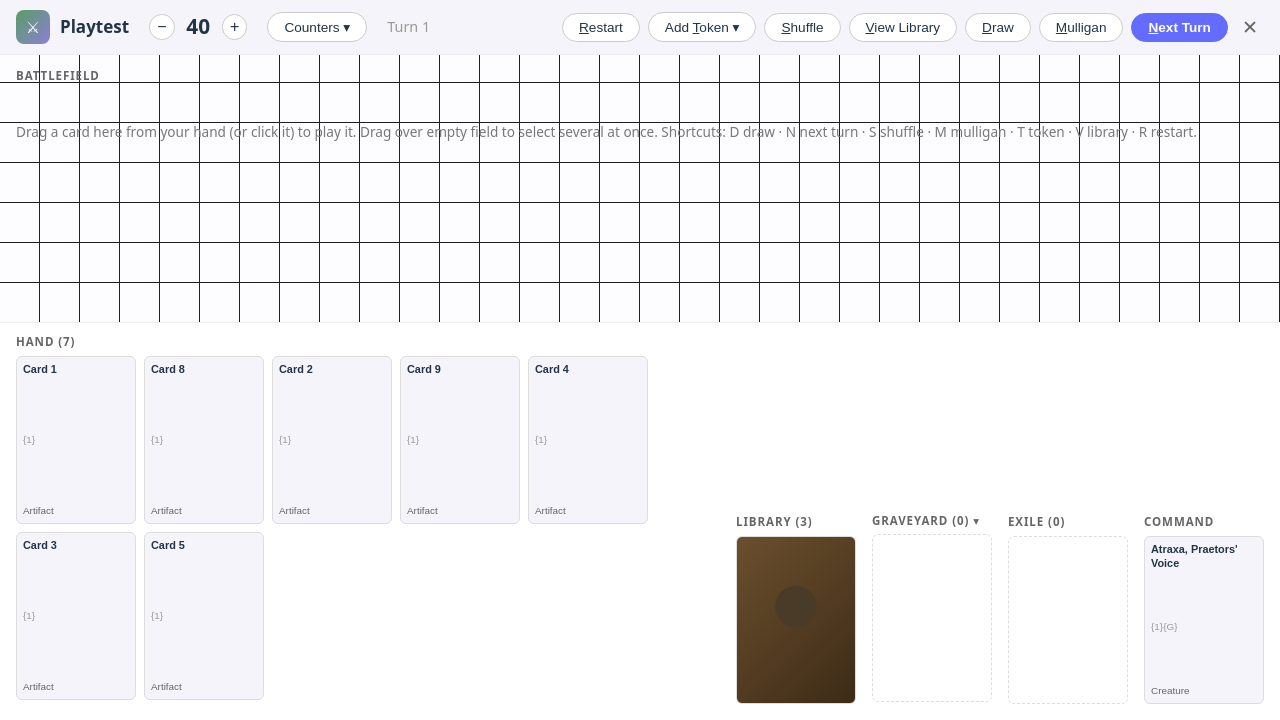
Test case: Playtest › tracks player counters from the Counters popover
Step 1. Click the button "Counters ▾" → (317, 27), box [267,12,367,42]
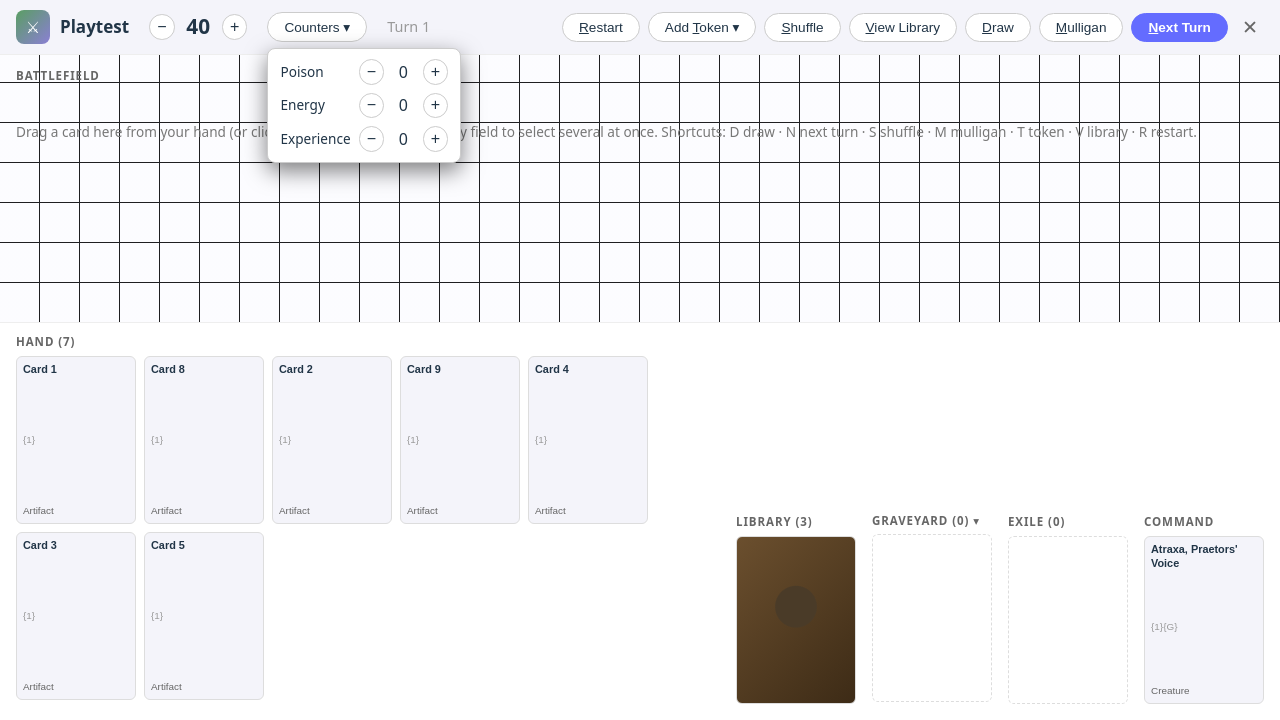
Step 2. Click the button named "Add Poison counter" → (435, 72), box [423,59,448,85]
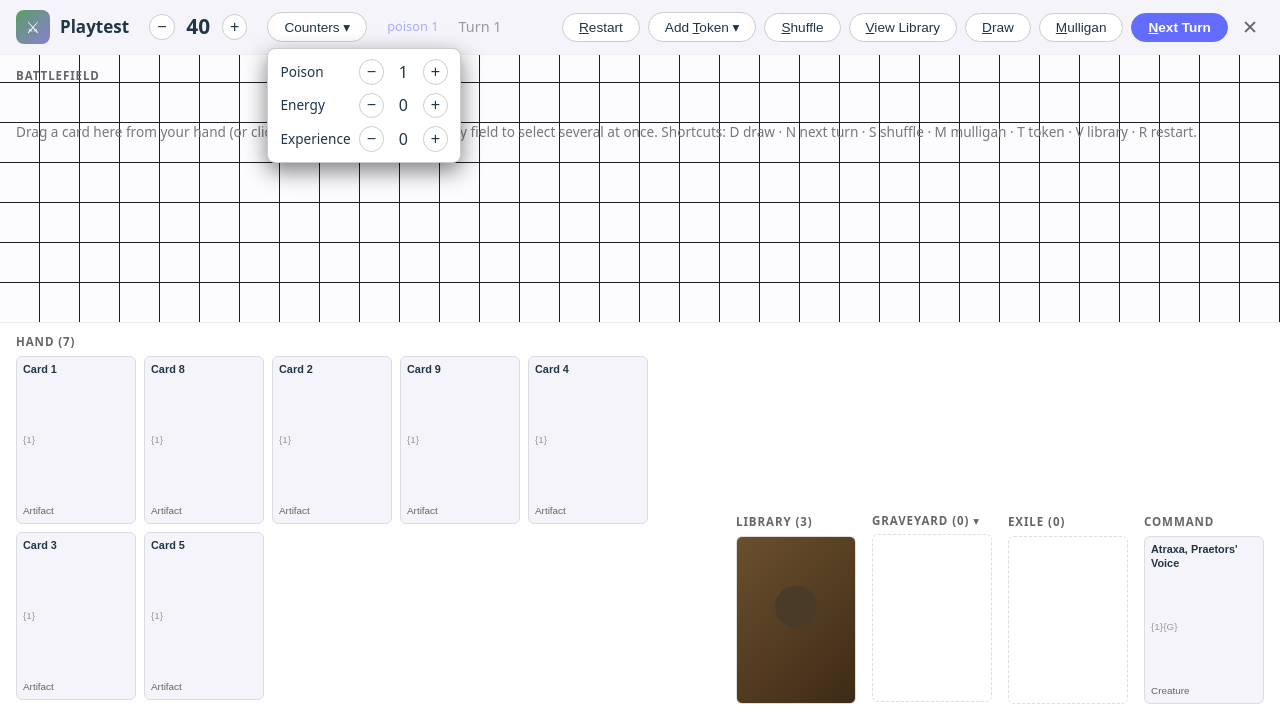
Step 3. Click the button named "Add Poison counter" → (435, 72), box [423,59,448,85]
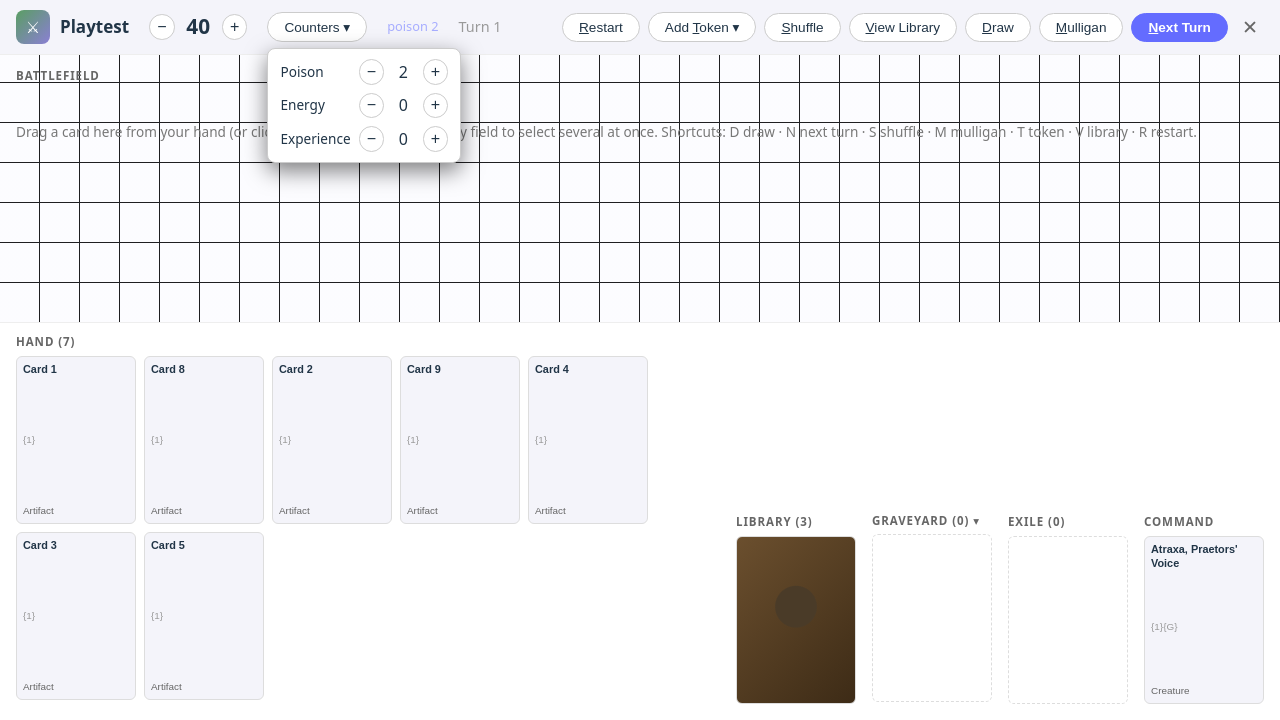
Result: the text "poison 2" is shown at [387,17,438,37]
Step 4. Click the button named "Remove Poison counter" → (371, 72), box [359,59,384,85]
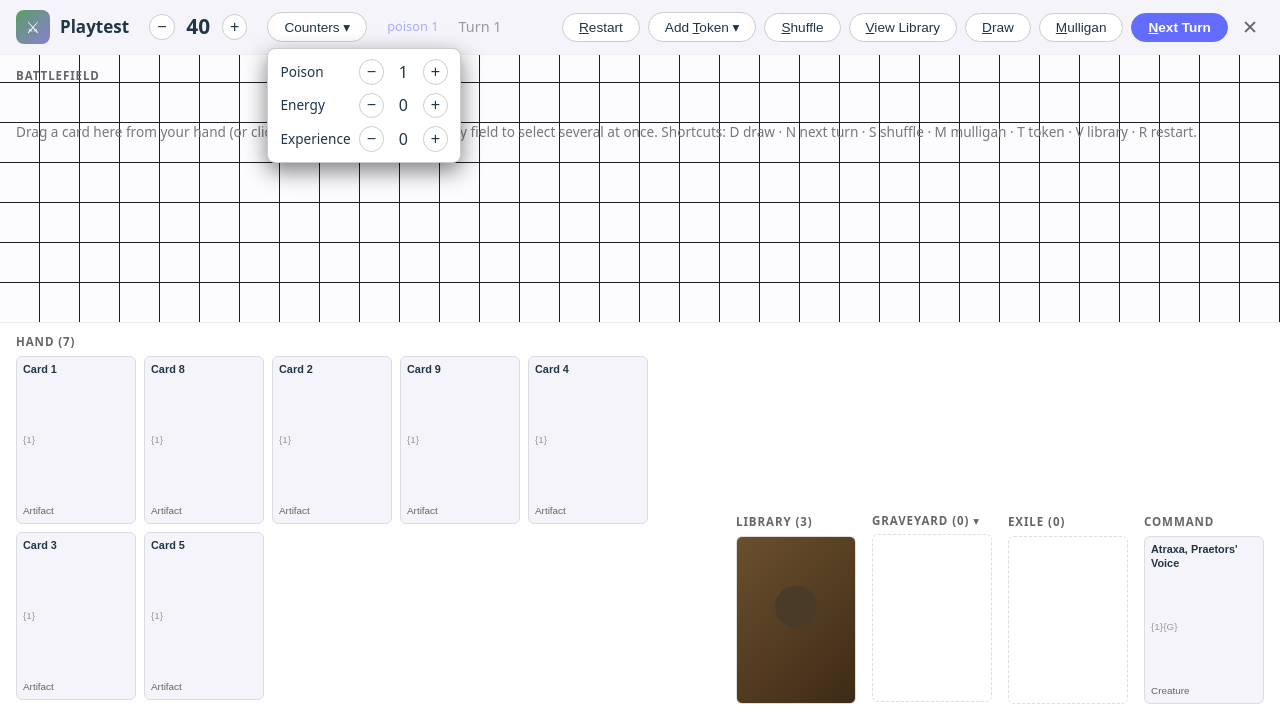
Result: the text "poison 1" is shown at [387,17,438,37]
